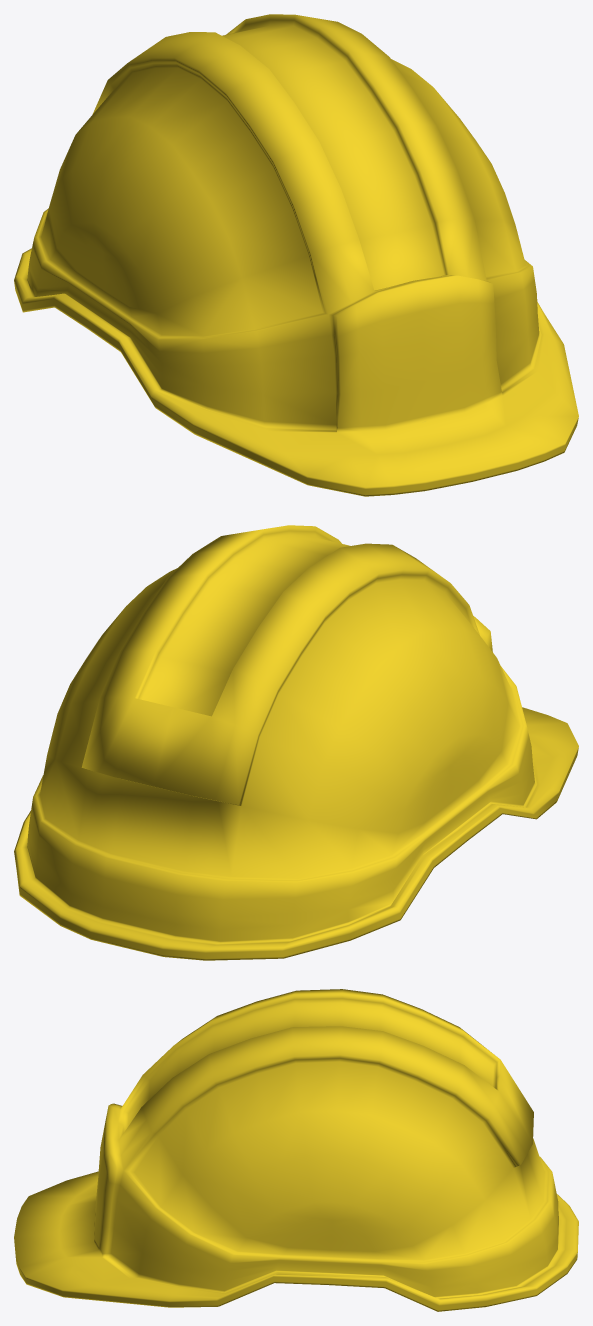
The model's file is casco.glb.
3 views of the same model, one above another, from view 1: azimuth 30°, elevation 25°; view 2: azimuth 150°, elevation 25°; view 3: azimuth 270°, elevation 25° (orthographic). The views are drawn at different scales.
Parts seen in each view (by area): view 1: Helmet; view 2: Helmet; view 3: Helmet.
Boxes of the visible parts, x1,y1,x2,y2 form: Helmet: (14, 14, 578, 496); Helmet: (14, 525, 578, 960); Helmet: (14, 989, 578, 1311).
Size of the model in its own units: 0.1768 by 0.1288 by 0.275.
Materials: 1 (1 with a texture image).
